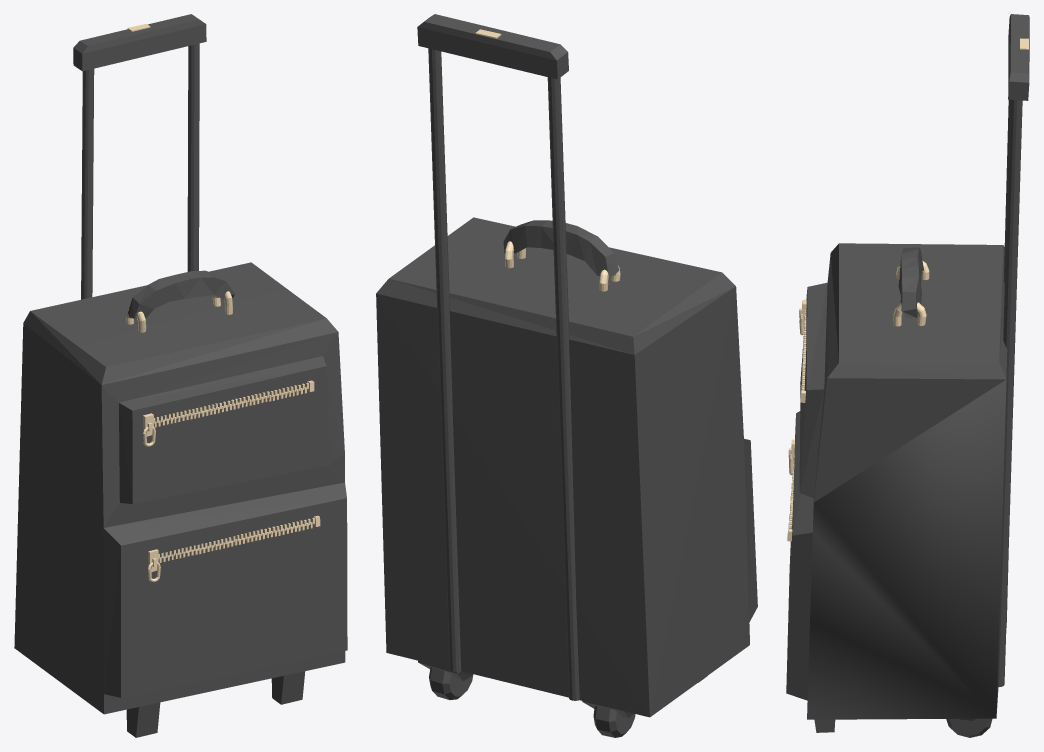
Rendered from luggage_bag.gltf.
3 renders of one model, left to right at view 1: azimuth 30°, elevation 25°; view 2: azimuth 150°, elevation 25°; view 3: azimuth 270°, elevation 25°, orthographic. The views are drawn at different scales.
Parts seen in each view (by area): view 1: model; view 2: model; view 3: model.
Boxes of the visible parts, x1,y1,x2,y2 form: model: (14,14,347,737); model: (376,14,757,737); model: (786,14,1029,737).
Bounding box in the file's own units: 0.3957 × 0.9722 × 0.3243.
